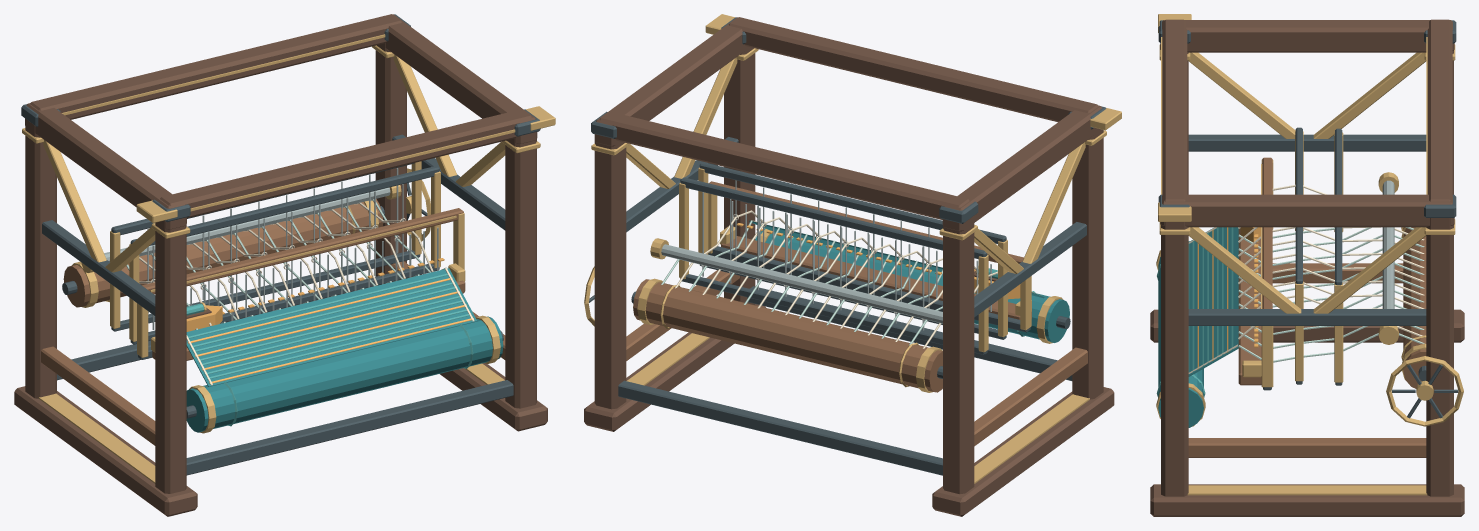
File: loom.glb
The picture shows the model from 3 angles, left to right: view 1: azimuth 30°, elevation 25°; view 2: azimuth 150°, elevation 25°; view 3: azimuth 270°, elevation 25°; orthographic projection. The views are drawn at different scales.
Parts seen in each view (by area): view 1: Cloth, FabricRoll, Crown_Front, Crown_Rear, Post_LF, Post_RF, Post_LB, Foot_crossbrace_Front, WarpBeam, Side_lintel_L, Side_lintel_R, Foot_L (+28 smaller); view 2: WarpBeam, Crown_Rear, Crown_Front, Post_RB, Post_LB, Post_LF, Foot_crossbrace_Rear, Side_lintel_L, Side_lintel_R, Foot_L, Post_RF, RearWarpGuide (+28 smaller); view 3: Side_lintel_R, Side_lintel_L, Foot_R, Post_RF, Post_RB, Cloth, Side_low_rail_R, Crown_Front, Crown_Rear, Side_rib_R, Side_rib_L, WarpLower (+21 smaller).
Part boxes in pixels (x1,y1,x2,y2): Cloth: (186,268,477,386); FabricRoll: (186,316,503,432); Crown_Front: (160,109,531,218); Crown_Rear: (30,14,402,119); Post_LF: (155,220,186,493); Post_RF: (505,138,536,408); Post_LB: (25,119,56,398); Foot_crossbrace_Front: (186,380,513,475); WarpBeam: (63,199,383,307); Side_lintel_L: (25,103,186,229); Side_lintel_R: (385,14,537,143); Foot_L: (14,386,197,516); WarpBeam: (633,279,942,392); Crown_Rear: (599,111,969,219); Crown_Front: (729,17,1098,121); Post_RB: (594,140,626,409); Post_LB: (943,216,974,494); Post_LF: (1072,127,1103,399); Foot_crossbrace_Rear: (618,380,942,475); Side_lintel_L: (942,105,1101,231); Side_lintel_R: (594,17,745,146); Foot_L: (932,387,1114,516); Post_RF: (724,46,755,304); RearWarpGuide: (661,244,942,323); Side_lintel_R: (1160,194,1454,227); Side_lintel_L: (1160,20,1454,52); Foot_R: (1150,484,1464,516); Post_RF: (1161,222,1188,496); Post_RB: (1426,218,1453,496); Cloth: (1188,227,1238,376); Side_low_rail_R: (1188,438,1426,457); Crown_Front: (1162,19,1187,201); Crown_Rear: (1427,19,1452,201); Side_rib_R: (1188,309,1426,325); Side_rib_L: (1188,134,1426,151); WarpLower: (1238,227,1424,362).
Bounding box in the file's own units: 3.8 × 2.77 × 2.51.
